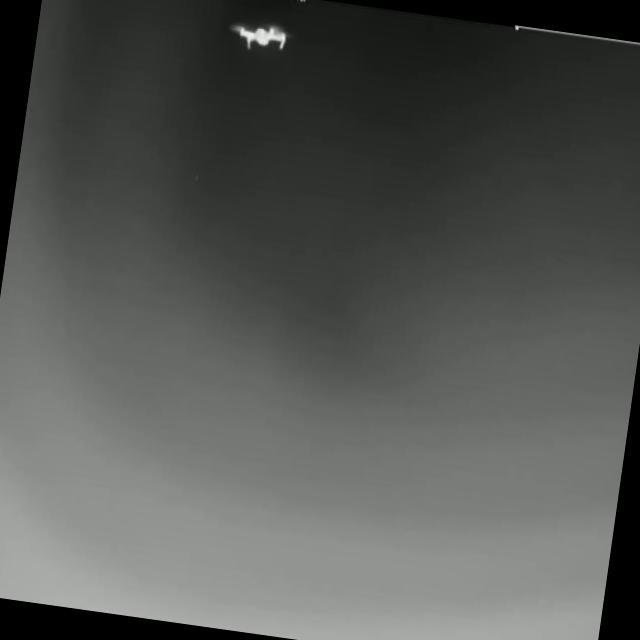DRONE: (231, 20, 294, 53)
